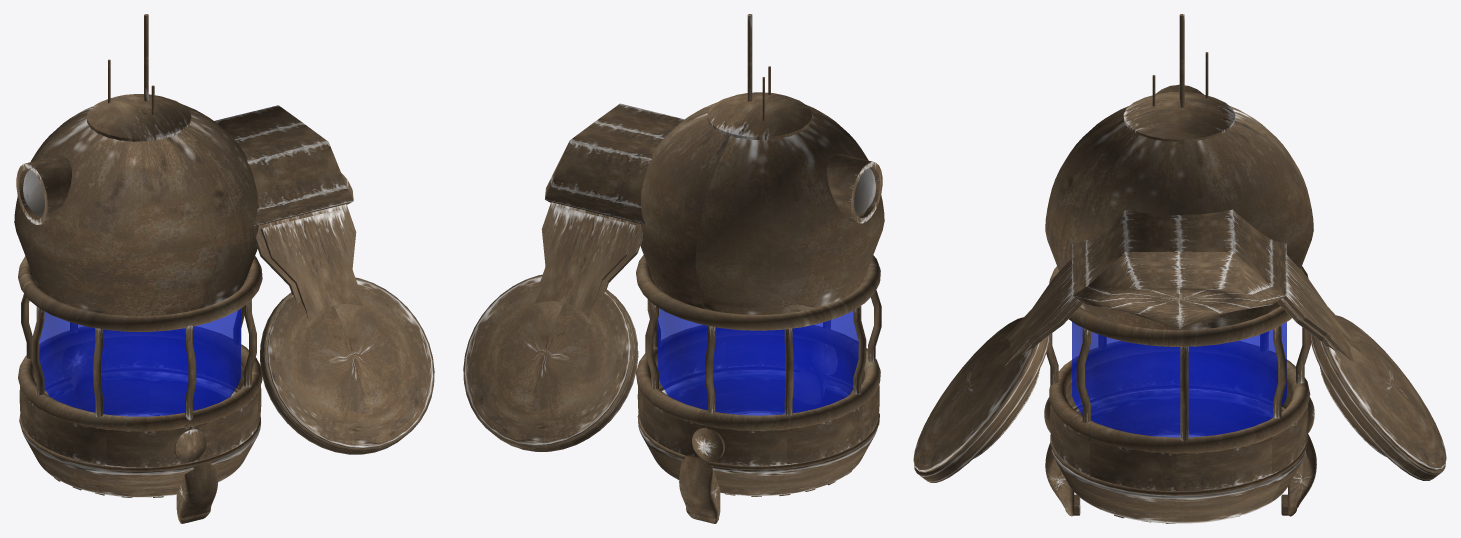
The model's file is tt_motion5.FBX.
3 renders of one model, left to right at view 1: azimuth 30°, elevation 25°; view 2: azimuth 150°, elevation 25°; view 3: azimuth 270°, elevation 25°, orthographic. The views are drawn at different scales.
Visible parts, largest first — view 1: tt, tt_left, lamp; view 2: tt, tt_right, lamp; view 3: tt, lamp, tt_right, tt_left.
Boxes of the visible parts, x1,y1,x2,y2 form: tt: (14, 14, 353, 523); tt_left: (256, 204, 434, 454); lamp: (39, 309, 240, 416); tt: (545, 14, 884, 523); tt_right: (463, 202, 642, 451); lamp: (657, 308, 858, 415); tt: (1044, 14, 1316, 523); lamp: (1072, 322, 1286, 437); tt_right: (1277, 255, 1446, 480); tt_left: (913, 258, 1083, 482).
Bounding box in the file's own units: 20.26 × 29.45 × 28.51.
Materials: 3 (1 with a texture image).
